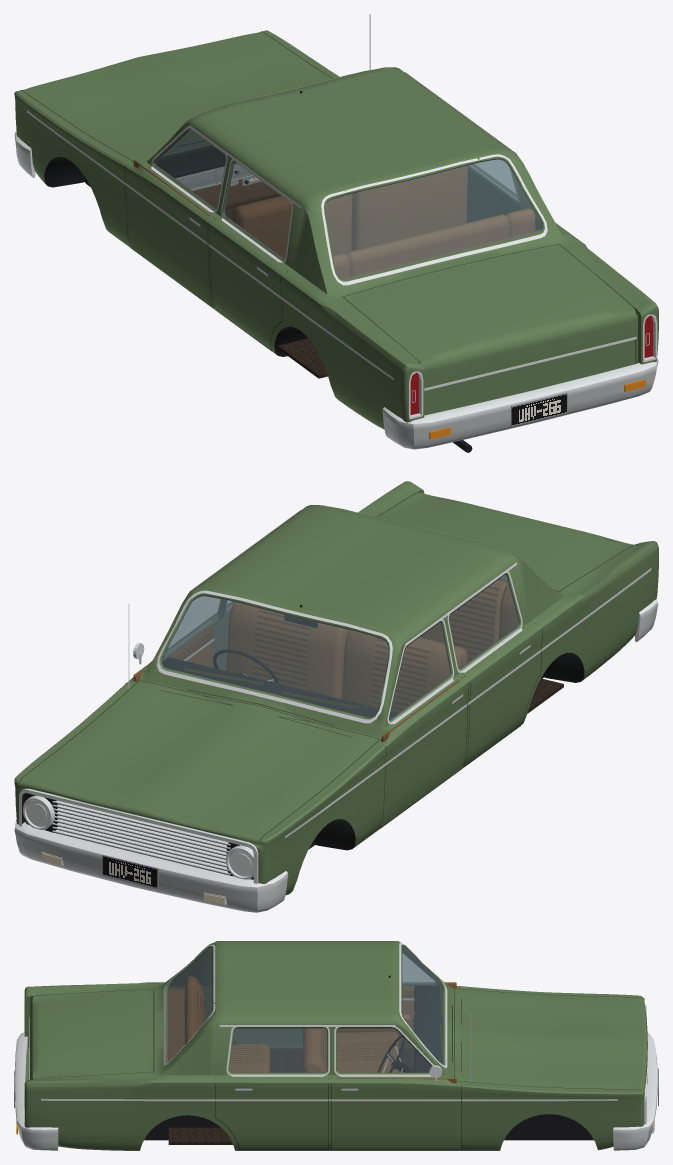
The model's file is valiant.glb.
3 renders of one model, top to bottom at view 1: azimuth 30°, elevation 25°; view 2: azimuth 150°, elevation 25°; view 3: azimuth 270°, elevation 25°, orthographic. The views are drawn at different scales.
Visible parts, largest first — view 1: Valiant, Door_L, Door_L_Glass, TailL, TailR; view 2: Valiant, Door_L, Door_L_Glass, Door_R, Door_R_Glass; view 3: Valiant, Door_R, Door_R_Glass, Door_L, Door_L_Glass, SteeringWheel.
Boxes of the visible parts, <box> form: Valiant: <box>14,14,658,452</box>; Door_L: <box>125,124,230,307</box>; Door_L_Glass: <box>155,130,226,208</box>; TailL: <box>408,371,423,419</box>; TailR: <box>642,314,657,362</box>; Valiant: <box>14,481,658,912</box>; Door_L: <box>326,614,468,827</box>; Door_L_Glass: <box>389,622,450,719</box>; Door_R: <box>127,599,224,696</box>; Door_R_Glass: <box>164,596,220,656</box>; Valiant: <box>14,941,658,1150</box>; Door_R: <box>331,1024,461,1149</box>; Door_R_Glass: <box>337,1028,431,1072</box>; Door_L: <box>337,948,461,1048</box>; Door_L_Glass: <box>402,954,434,982</box>; SteeringWheel: <box>377,1035,404,1072</box>.
Bounding box in the file's own units: 1.8 × 1.19 × 4.8.
Materials: 30 (9 with a texture image).
